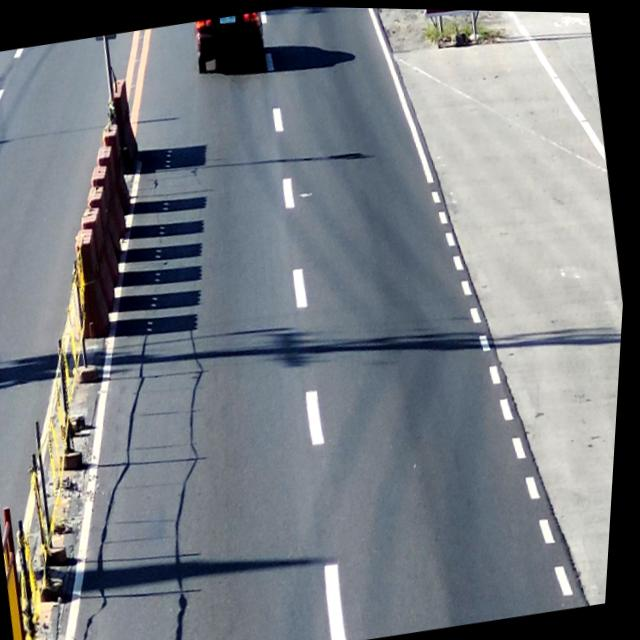Car: (189, 9, 273, 82)
